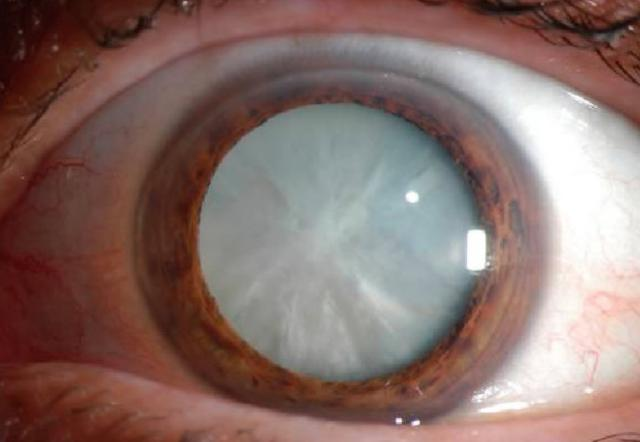eye: (146, 54, 532, 399)
